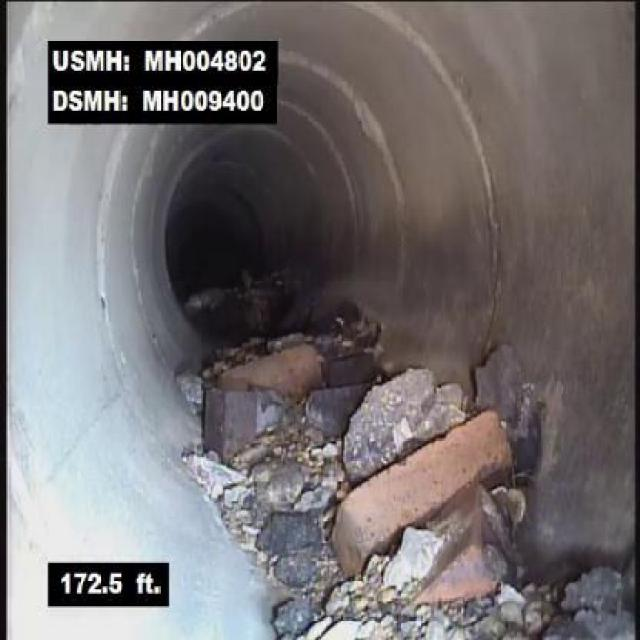Obstacle: (170, 360, 638, 638)
